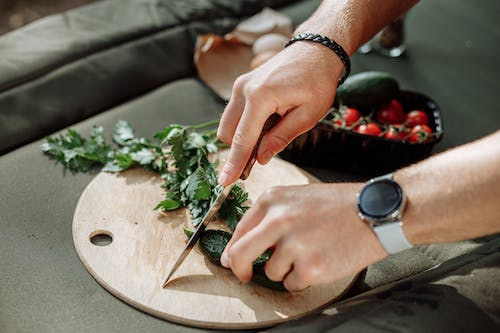knife: (161, 113, 279, 289)
